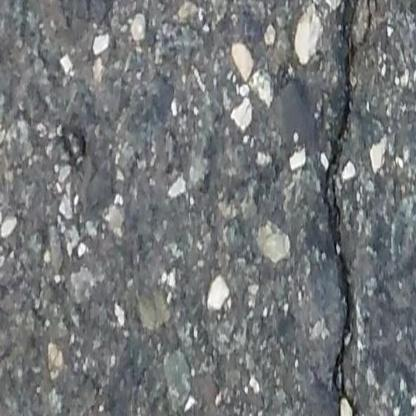Cracks: (323, 0, 382, 416)
